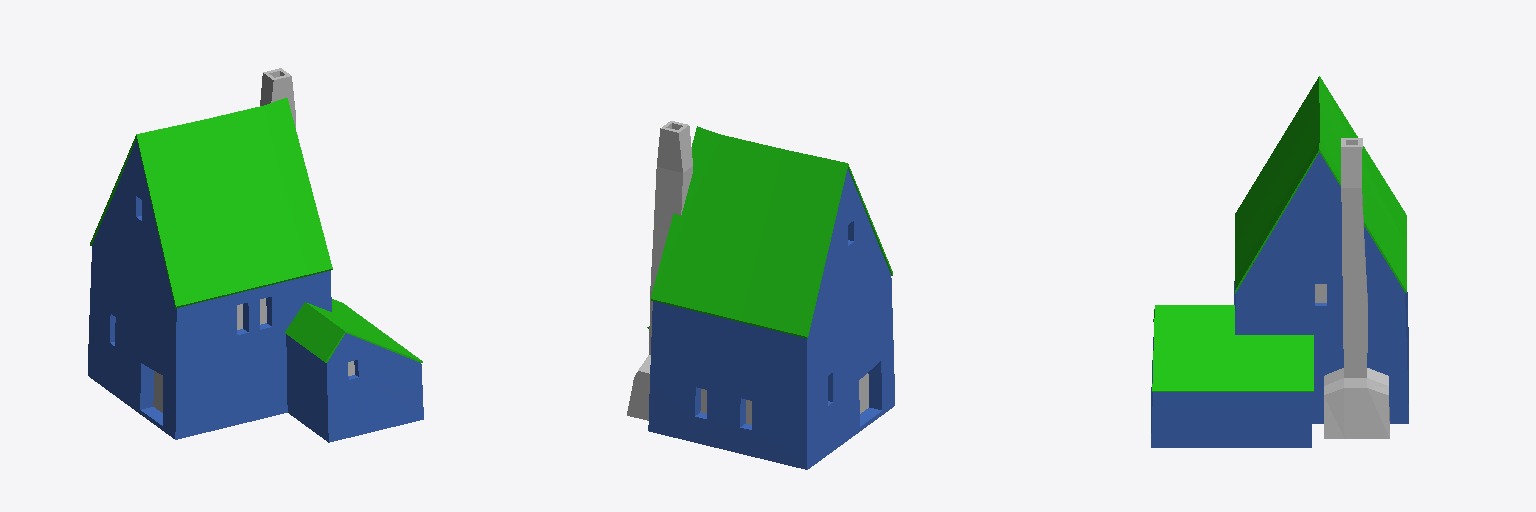
File: irishHouse2.obj
The picture shows the model from 3 angles: view 1: azimuth 30°, elevation 25°; view 2: azimuth 150°, elevation 25°; view 3: azimuth 270°, elevation 25°; orthographic projection.
Visible parts, largest first — view 1: Cube.011_Cube.010; view 2: Cube.011_Cube.010; view 3: Cube.011_Cube.010.
Boxes of the visible parts, <box> form: Cube.011_Cube.010: <box>88,68,423,442</box>; Cube.011_Cube.010: <box>627,121,894,469</box>; Cube.011_Cube.010: <box>1151,76,1408,447</box>.
Bounding box in the file's own units: 7.1 × 9.24 × 7.63.